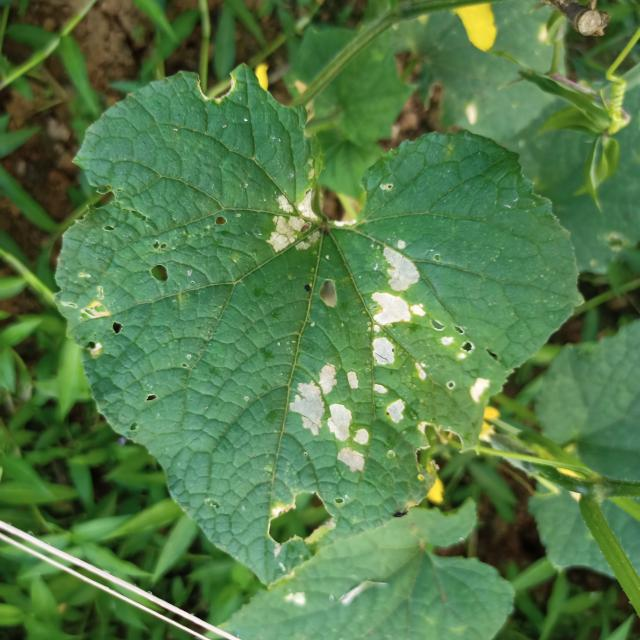disease_cucumber: (361, 237, 495, 422), (283, 358, 373, 486), (261, 189, 324, 260)
